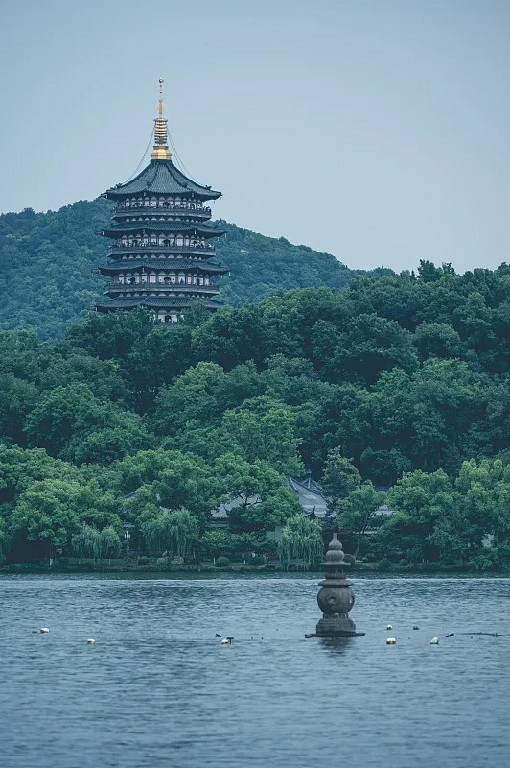Leifeng: (91, 76, 228, 325)
